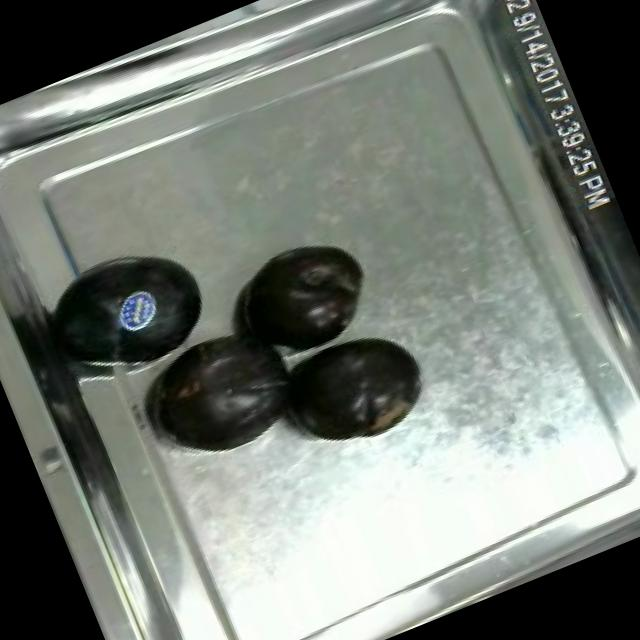Fruit: (36, 224, 228, 396), (266, 310, 446, 468), (222, 221, 386, 369)
